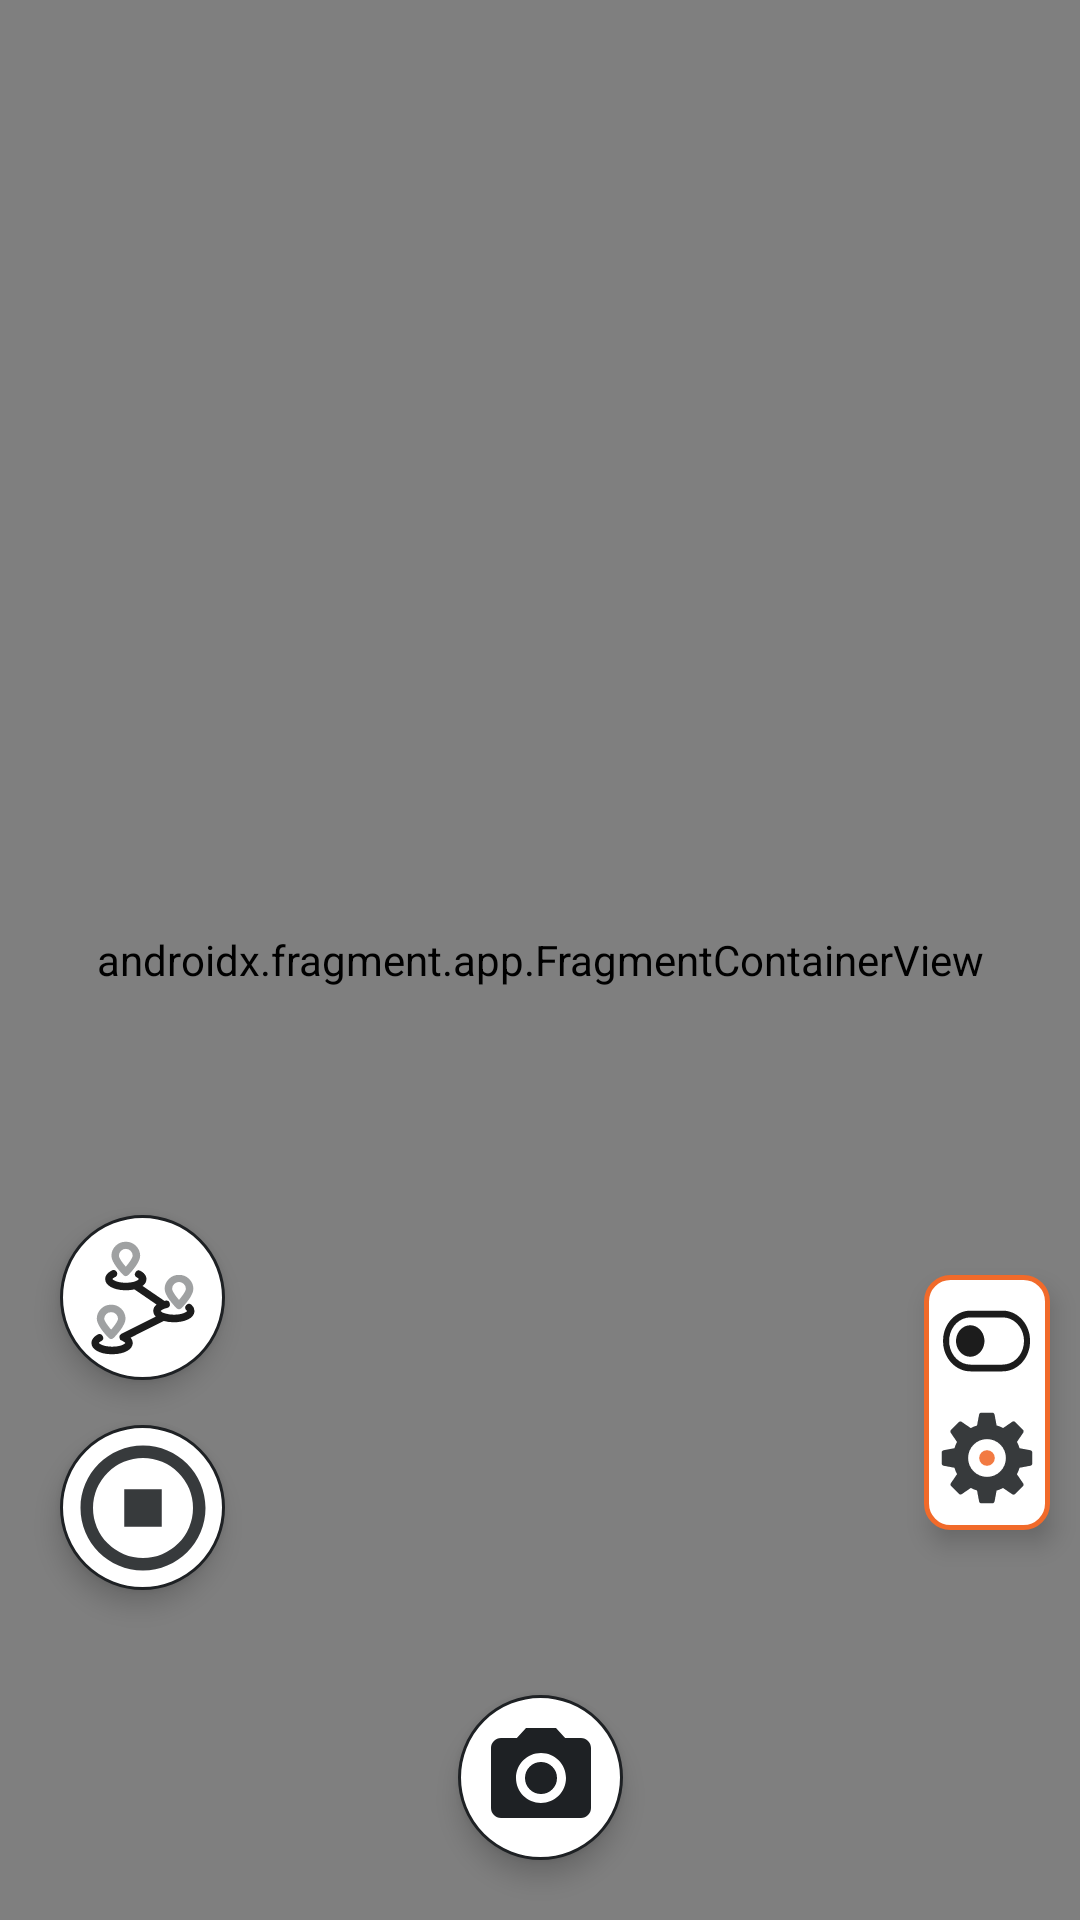

Named icons in this screenshot (1080*1920) and their centers, point (x, y):
camera deactivated: point (540, 1777)
route: point (142, 1297)
settings gear: point (987, 1458)
stop deactivated: point (142, 1507)
